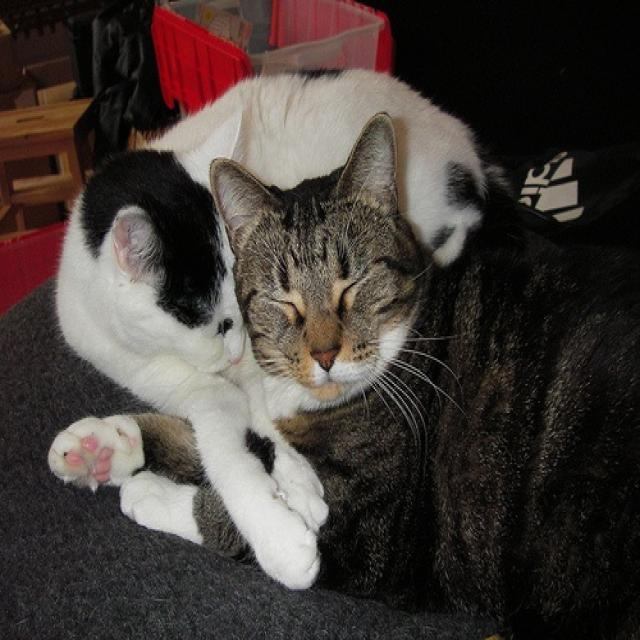cat: (45, 113, 639, 638), (55, 65, 508, 585)
